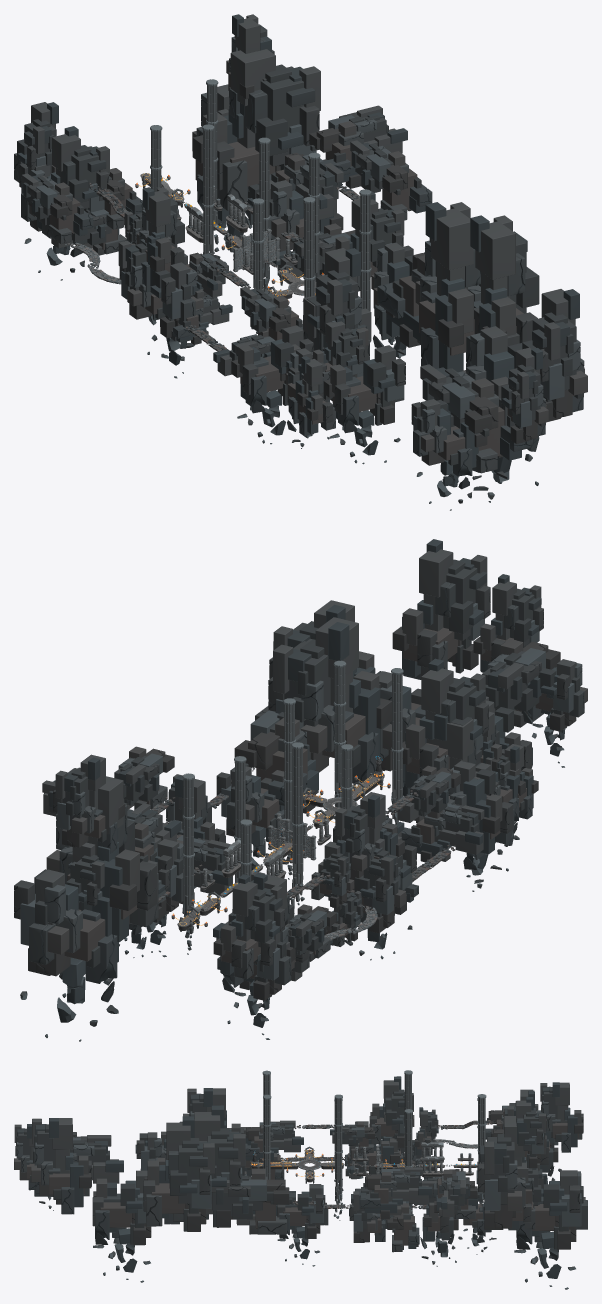
The model's file is underworld.glb.
3 views of the same model, one above another, from view 1: azimuth 30°, elevation 25°; view 2: azimuth 150°, elevation 25°; view 3: azimuth 270°, elevation 25° (orthographic). The views are drawn at different scales.
Parts seen in each view (by area): view 1: ruins_001.045, ruins_001.041, ruins_001.082, ruins_001.089, ruins_002.013, ruins_001.088, ruins_002.028, ruins_002.011, ruins_001.040, ruins_001.053, ruins_001.051, ruins_001.017 (+29 smaller); view 2: ruins_001.041, ruins_002.025, ruins_001.089, ruins_001.045, ruins_001.017, ruins_001.049, ruins_001.046, ruins_001.088, ruins_001.087, ruins_002.011, ruins_001.054, ruins_001.006 (+30 smaller); view 3: ruins_001.082, ruins_002.025, ruins_001.045, ruins_001.089, ruins_002.029, ruins_001.054, ruins_001.041, ruins_001.053, ruins_002.014, ruins_001.049, ruins_001.006, ruins_001.088 (+21 smaller).
Boxes of the visible parts, x1,y1,x2,y2 form: ruins_001.045: (192, 36, 320, 210); ruins_001.041: (415, 202, 480, 372); ruins_001.082: (466, 215, 539, 367); ruins_001.089: (522, 289, 587, 421); ruins_002.013: (323, 345, 405, 464); ruins_001.088: (420, 364, 530, 473); ruins_002.028: (411, 399, 487, 510); ruins_002.011: (231, 325, 313, 444); ruins_001.040: (309, 105, 407, 188); ruins_001.053: (350, 140, 432, 220); ruins_001.051: (28, 126, 109, 238); ruins_001.017: (303, 248, 368, 347); ruins_001.041: (268, 617, 391, 784); ruins_002.025: (14, 869, 129, 1041); ruins_001.089: (392, 539, 490, 679); ruins_001.045: (46, 768, 158, 942); ruins_001.017: (402, 658, 488, 788); ruins_001.049: (213, 874, 284, 979); ruins_001.046: (53, 754, 125, 853); ruins_001.088: (482, 639, 560, 727); ruins_001.087: (473, 574, 543, 672); ruins_002.011: (448, 761, 514, 891); ruins_001.054: (234, 706, 329, 813); ruins_001.006: (333, 792, 404, 884); ruins_001.082: (143, 1116, 214, 1231); ruins_002.025: (514, 1170, 587, 1289); ruins_001.045: (476, 1116, 539, 1229); ruins_001.089: (31, 1118, 91, 1214); ruins_002.029: (92, 1170, 162, 1282); ruins_001.054: (206, 1168, 295, 1234); ruins_001.041: (173, 1105, 246, 1227); ruins_001.053: (360, 1167, 432, 1219); ruins_002.014: (277, 1184, 328, 1266); ruins_001.049: (540, 1082, 583, 1152); ruins_001.006: (369, 1076, 414, 1147); ruins_001.088: (28, 1135, 123, 1204).
Bounding box in the file's own units: 16.63 × 13.36 × 36.05.
5 materials, 5 textured.
